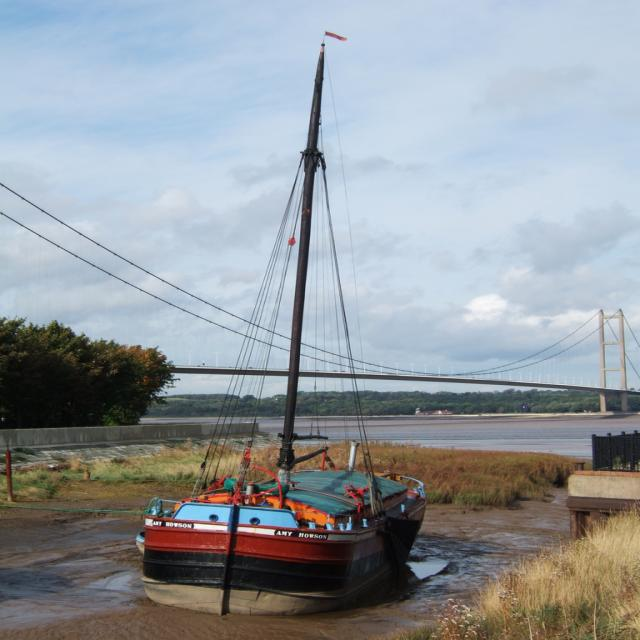Boat: (130, 45, 437, 632)
